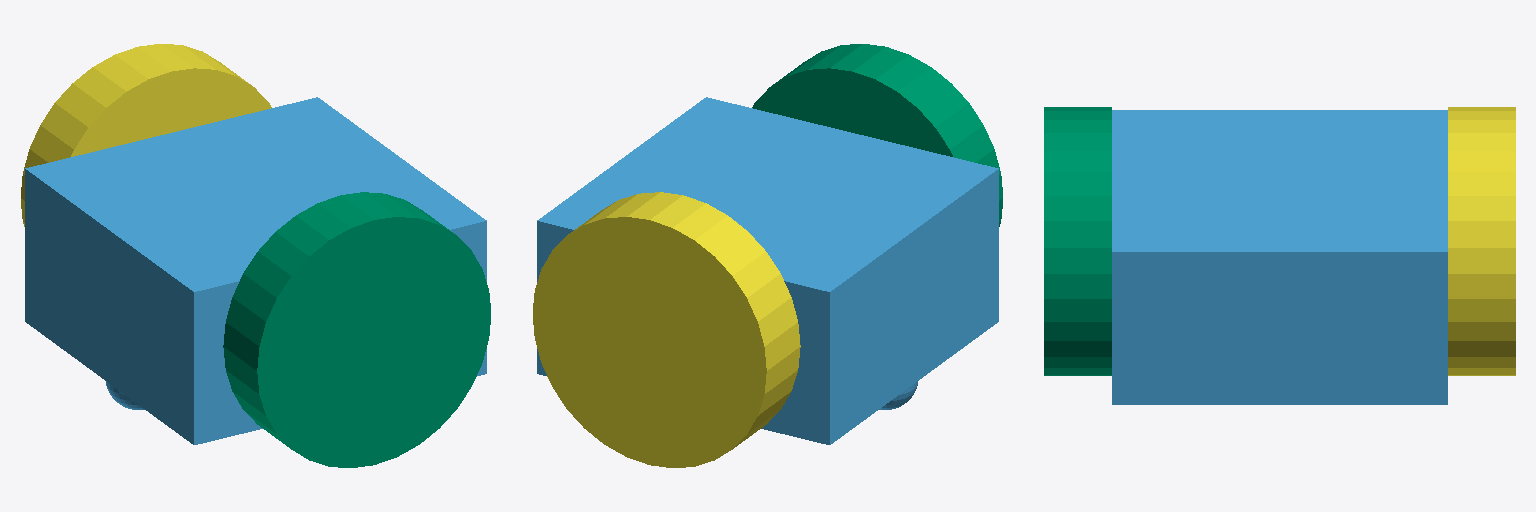
URDF robot description (gopigo):
<?xml version='1.0'?>
<robot name="gopigo">
  <!-- Dummy link without inertia is needed -->
  <link name="base_footprint"/>
  <joint name="base_link_joint" type="fixed">
    <origin rpy="0 0 0" xyz="0 0 0.05"/>
    <parent link="base_footprint"/>
    <child link="base_link"/>
  </joint>
  <!-- Base Link -->
  <link name="base_link">
    <visual>
      <origin xyz="0 0 0" rpy="0 0 0" />
      <geometry>
          <box size="0.5 0.5 0.25"/>
      </geometry>
    </visual>
    <collision>
      <origin xyz="0 0 0" rpy="0 0 0" />
      <geometry>
          <box size="0.5 0.5 0.25"/>
      </geometry>
    </collision>
    <inertial>
      <mass value="5"/>
      <inertia ixx="0.13" ixy="0.0" ixz="0.0" iyy="0.21" iyz="0.0" izz="0.13"/>
    </inertial>
    <!-- Caster -->
    <visual name="caster">
      <origin xyz="-0.2 0 -0.125" rpy="0 0 0" />
      <geometry>
        <sphere radius="0.05" />
      </geometry>
    </visual>
    <collision>
      <origin xyz="-0.2 0 -0.125" rpy="0 0 0" />
      <geometry>
        <sphere radius="0.05" />
      </geometry>
    </collision>
    <inertial>
      <mass value="0.5"/>
      <inertia ixx="0.0001" ixy="0.0" ixz="0.0" iyy="0.0001" iyz="0.0" izz="0.0001"/>
    </inertial>
  </link>

  <gazebo reference="base_link">
    <material>Gazebo/Blue</material>
    <pose>0 0 3 0 0 0</pose>
  </gazebo>

  <!-- Right Wheel -->
  <link name="right_wheel">
    <visual>
      <origin xyz="0 0 0" rpy="1.570795 0 0" />
      <geometry>
          <cylinder length="0.1" radius="0.2" />
      </geometry>
    </visual>
    <!-- Right Wheel collision, mass and inertia -->
    <collision>
      <origin xyz="0 0 0" rpy="1.570795 0 0" />
      <geometry>
          <cylinder length="0.1" radius="0.2" />
      </geometry>
    </collision>
    <inertial>
      <mass value="0.5"/>
      <inertia ixx="0.01" ixy="0.0" ixz="0.0" iyy="0.005" iyz="0.0" izz="0.005"/>
    </inertial>
  </link>

  <gazebo reference="right_wheel">
    <material>Gazebo/Black</material>
  </gazebo>

  <!-- Right Wheel joint -->
  <joint name="joint_right_wheel" type="continuous">
    <parent link="base_link"/>
    <child link="right_wheel"/>
    <origin xyz="0 -0.30 0.025" rpy="0 0 0" /> 
    <axis xyz="0 1 0" />
  </joint>

  <!-- Left Wheel -->
  <link name="left_wheel">
    <visual>
      <origin xyz="0 0 0" rpy="1.570795 0 0" />
      <geometry>
          <cylinder length="0.1" radius="0.2" />
      </geometry>
    </visual>
    <collision>
      <origin xyz="0 0 0" rpy="1.570795 0 0" />
      <geometry>
          <cylinder length="0.1" radius="0.2" />
      </geometry>
    </collision>
    <inertial>
      <mass value="0.5"/>
      <inertia ixx="0.01" ixy="0.0" ixz="0.0" iyy="0.005" iyz="0.0" izz="0.005"/>
    </inertial>
  </link>

  <gazebo reference="left_wheel">
    <material>Gazebo/Black</material>
  </gazebo>

  <!-- Left Wheel joint -->
  <joint name="joint_left_wheel" type="continuous">
    <parent link="base_link"/>
    <child link="left_wheel"/>
    <origin xyz="0 0.30 0.025" rpy="0 0 0" /> 
    <axis xyz="0 1 0"/>
  </joint>

</robot>

--- What the picture shows (computed from the rendered views, not written in the file) ---
The picture shows the robot from 3 angles, left to right: view 1: azimuth 30°, elevation 25°; view 2: azimuth 150°, elevation 25°; view 3: azimuth 270°, elevation 25°; orthographic projection.
Model gopigo with 4 links and 3 joints (2 continuous, 1 fixed), rooted at base_footprint, posed all joints at 0.
Visible links, largest first — view 1: base_link, right_wheel, left_wheel; view 2: base_link, left_wheel, right_wheel; view 3: base_link, right_wheel, left_wheel.
Boxes of the visible links, x1=… form: base_link: x1=25, y1=97, x2=486, y2=444; right_wheel: x1=223, y1=192, x2=490, y2=467; left_wheel: x1=21, y1=44, x2=271, y2=226; base_link: x1=537, y1=97, x2=998, y2=444; left_wheel: x1=533, y1=192, x2=800, y2=467; right_wheel: x1=752, y1=44, x2=1002, y2=226; base_link: x1=1112, y1=110, x2=1447, y2=404; right_wheel: x1=1044, y1=107, x2=1111, y2=375; left_wheel: x1=1448, y1=107, x2=1515, y2=375.
Bounding box of the posed robot: 0.5 × 0.7 × 0.4 m (x, y, z).
Geometry: primitives only (box / cylinder / sphere), no mesh files.